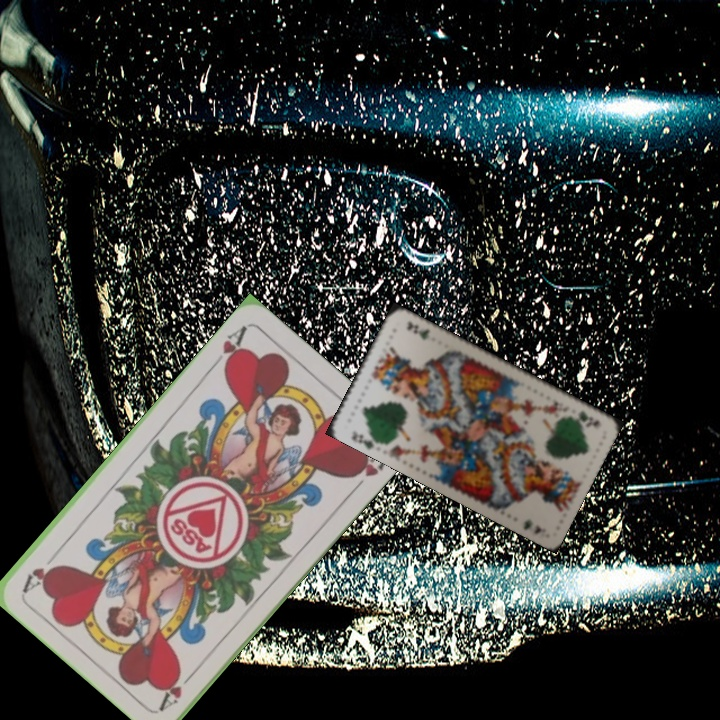GK: (347, 427, 382, 452), (564, 407, 603, 428)
HA: (155, 664, 201, 712), (207, 322, 250, 373)
